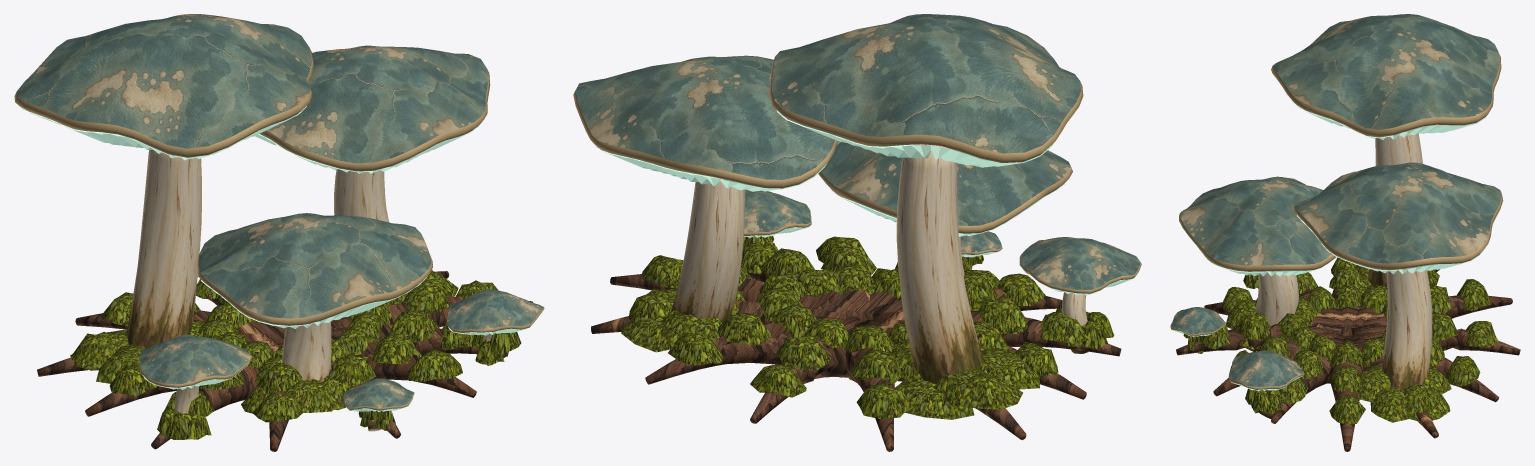
3 views of the same model, side by side, from view 1: azimuth 30°, elevation 25°; view 2: azimuth 150°, elevation 25°; view 3: azimuth 270°, elevation 25° (orthographic). The views are drawn at different scales.
Visible parts, largest first — view 1: lanterncap-grove · evaluated preview mesh; view 2: lanterncap-grove · evaluated preview mesh; view 3: lanterncap-grove · evaluated preview mesh.
Boxes of the visible parts, <box> form: lanterncap-grove · evaluated preview mesh: <box>14,14,544,451</box>; lanterncap-grove · evaluated preview mesh: <box>573,14,1141,451</box>; lanterncap-grove · evaluated preview mesh: <box>1170,14,1520,451</box>.
Bounding box in the file's own units: 9.86 × 7.43 × 7.61.
Materials: 6 (4 with a texture image).
